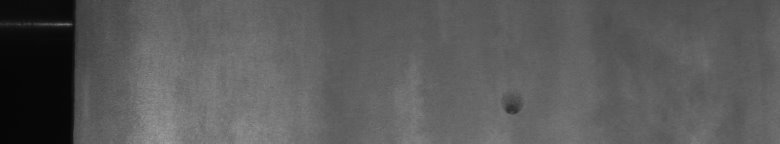fi: (498, 100, 527, 120)
